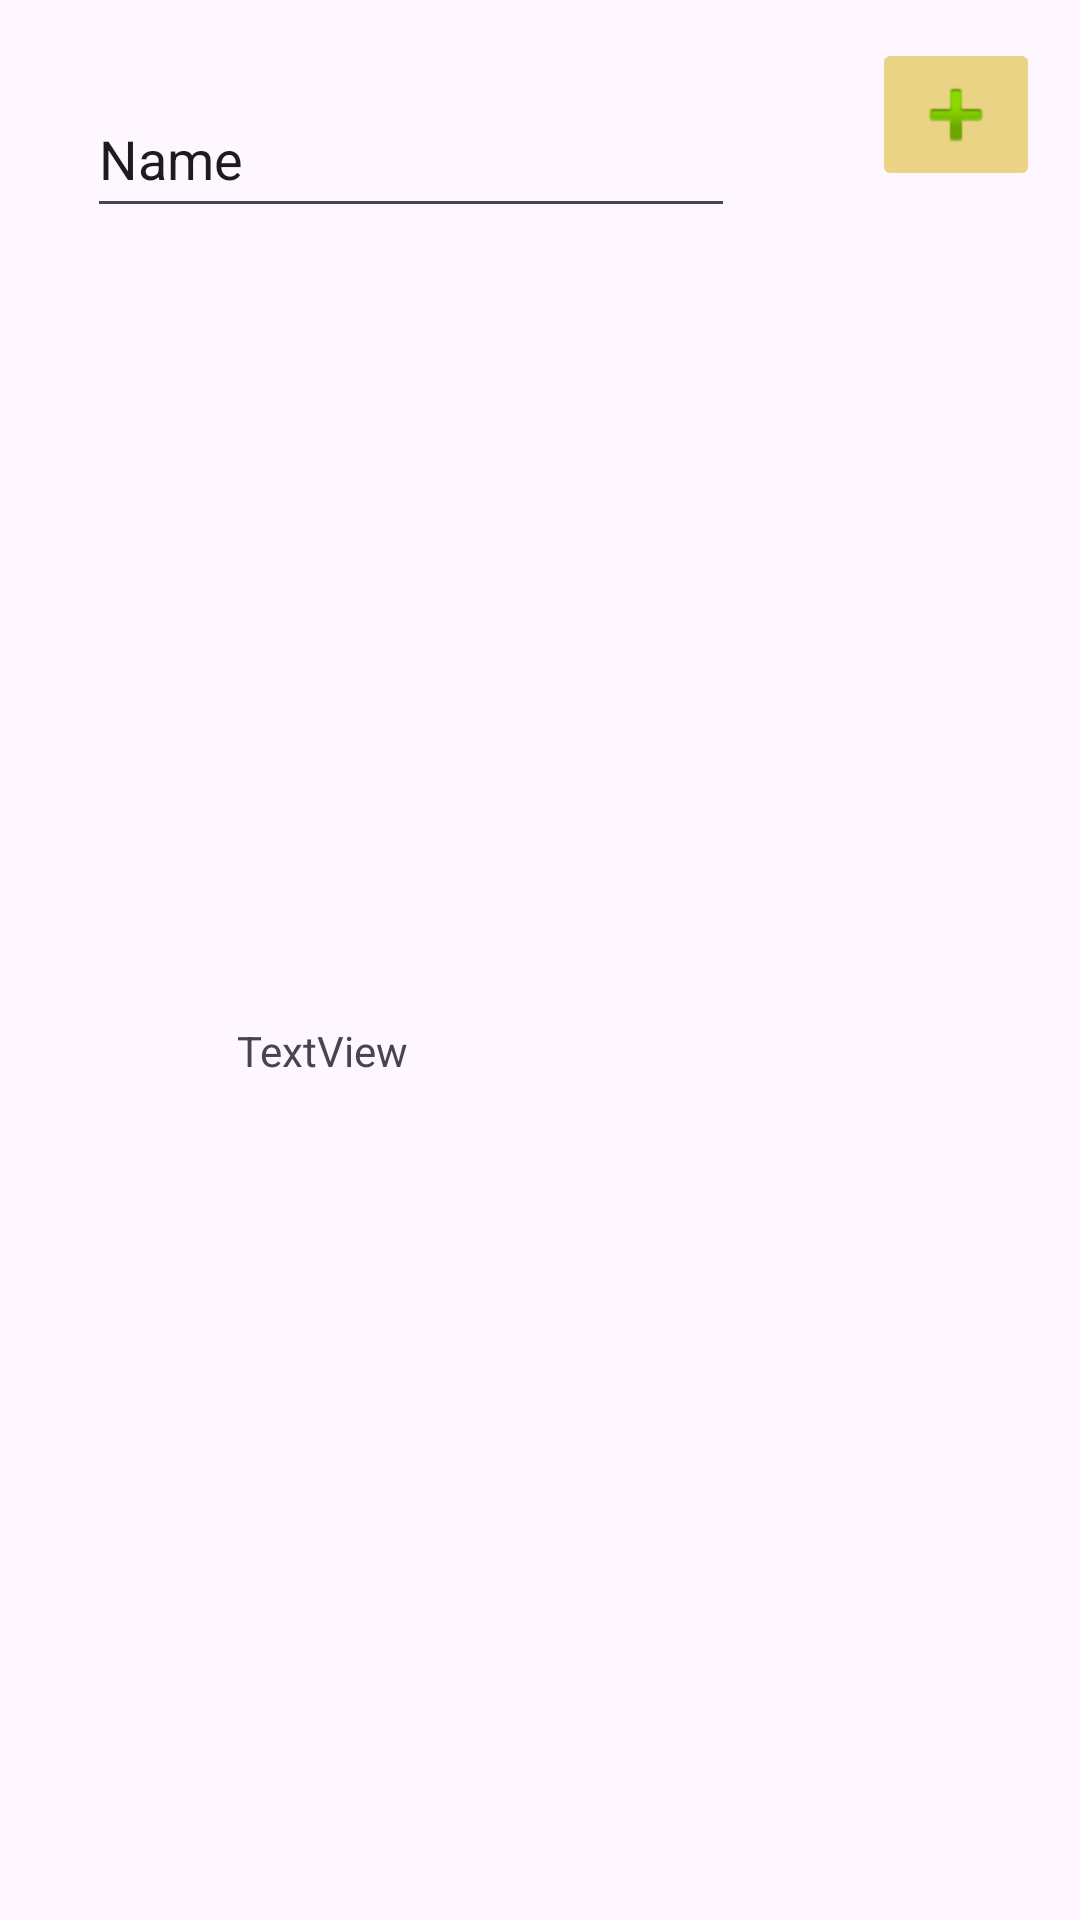

Named icons in this screenshot (1080px x 1920px) and their centers, (x,y):
add: (956,114)
